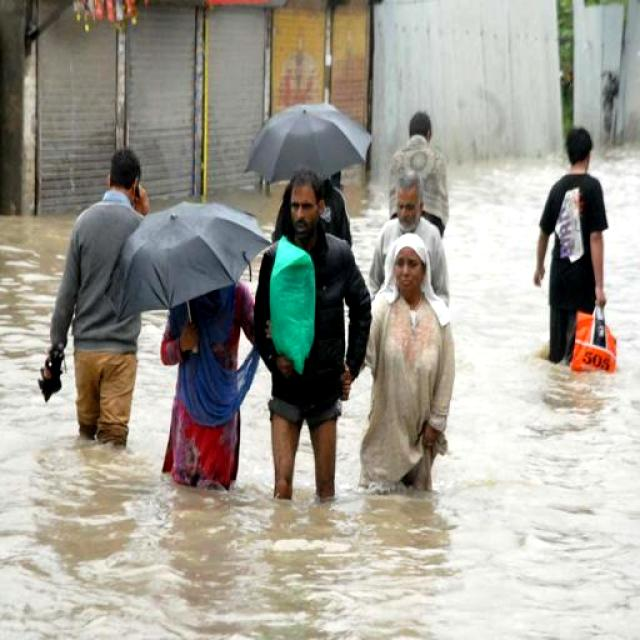civilian: (39, 137, 168, 472), (248, 158, 362, 521), (522, 112, 640, 378), (364, 229, 466, 516), (158, 276, 254, 507), (371, 165, 458, 312), (382, 104, 456, 255), (272, 142, 363, 251)
